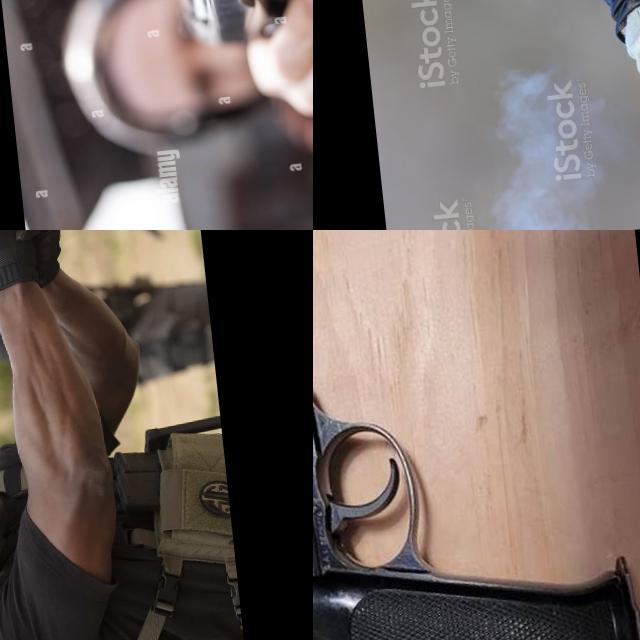handgun: (313, 230, 640, 640), (157, 0, 313, 77), (519, 0, 623, 102), (0, 230, 45, 299)
